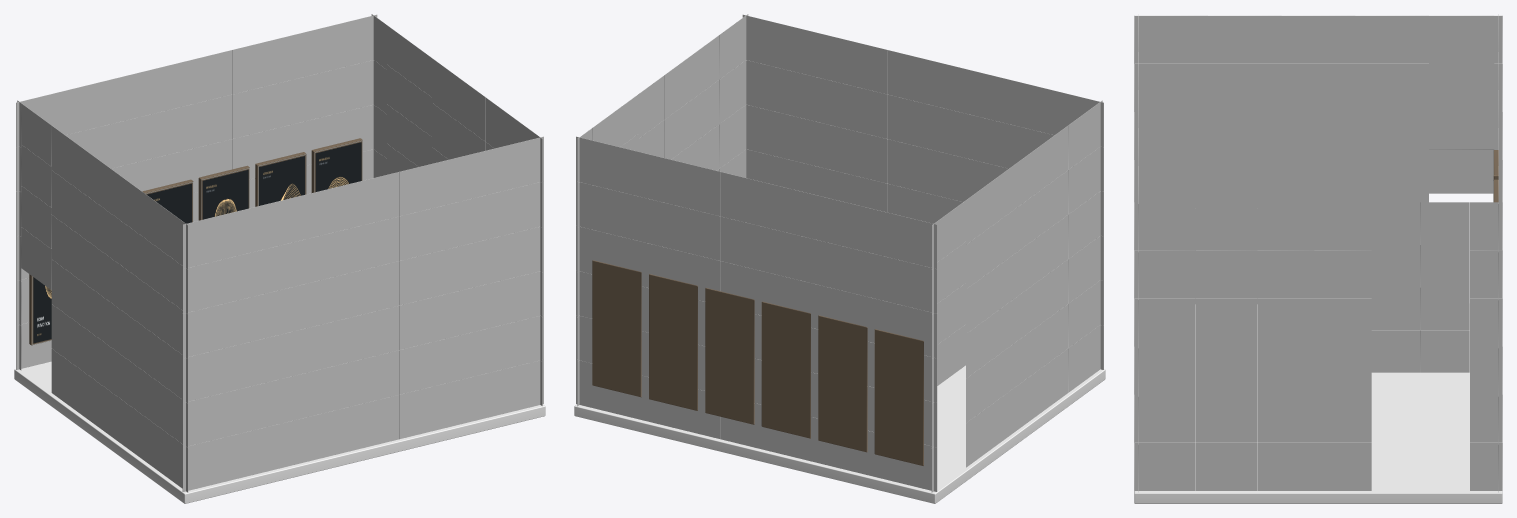
Rendered from render-hall.5567b25c7b55.glb.
3 views of the same model, side by side, from view 1: azimuth 30°, elevation 25°; view 2: azimuth 150°, elevation 25°; view 3: azimuth 270°, elevation 25° (orthographic). The views are drawn at different scales.
Parts seen in each view (by area): view 1: WEB_SCULPTURE_RENDER_MD, WEB_SLAB_RENDER, WEB_RENDER_CANVAS_FRAME_0, WEB_RENDER_CANVAS_3, WEB_RENDER_CANVAS_5, WEB_RENDER_CANVAS_4, WEB_RENDER_CANVAS_0, WEB_RENDER_CANVAS_2, WEB_V3_CANVAS_INNER_TRIM; view 2: WEB_SCULPTURE_RENDER_MD, WEB_RENDER_CANVAS_FRAME_0, WEB_SLAB_RENDER; view 3: WEB_SCULPTURE_RENDER_MD, WEB_SLAB_RENDER.
Boxes of the visible parts, <box> form: WEB_SCULPTURE_RENDER_MD: <box>16,14,543,492</box>; WEB_SLAB_RENDER: <box>14,361,545,503</box>; WEB_RENDER_CANVAS_FRAME_0: <box>29,138,362,345</box>; WEB_RENDER_CANVAS_3: <box>202,170,248,219</box>; WEB_RENDER_CANVAS_5: <box>315,142,361,191</box>; WEB_RENDER_CANVAS_4: <box>259,156,304,205</box>; WEB_RENDER_CANVAS_0: <box>33,277,51,343</box>; WEB_RENDER_CANVAS_2: <box>147,183,191,223</box>; WEB_V3_CANVAS_INNER_TRIM: <box>32,140,362,344</box>; WEB_SCULPTURE_RENDER_MD: <box>576,14,1103,492</box>; WEB_RENDER_CANVAS_FRAME_0: <box>592,260,923,465</box>; WEB_SLAB_RENDER: <box>574,365,1105,503</box>; WEB_SCULPTURE_RENDER_MD: <box>1134,14,1502,492</box>; WEB_SLAB_RENDER: <box>1134,303,1502,503</box>.
Bounding box in the file's own units: 11 × 8.1 × 9.
Materials: 15 (6 with a texture image).
